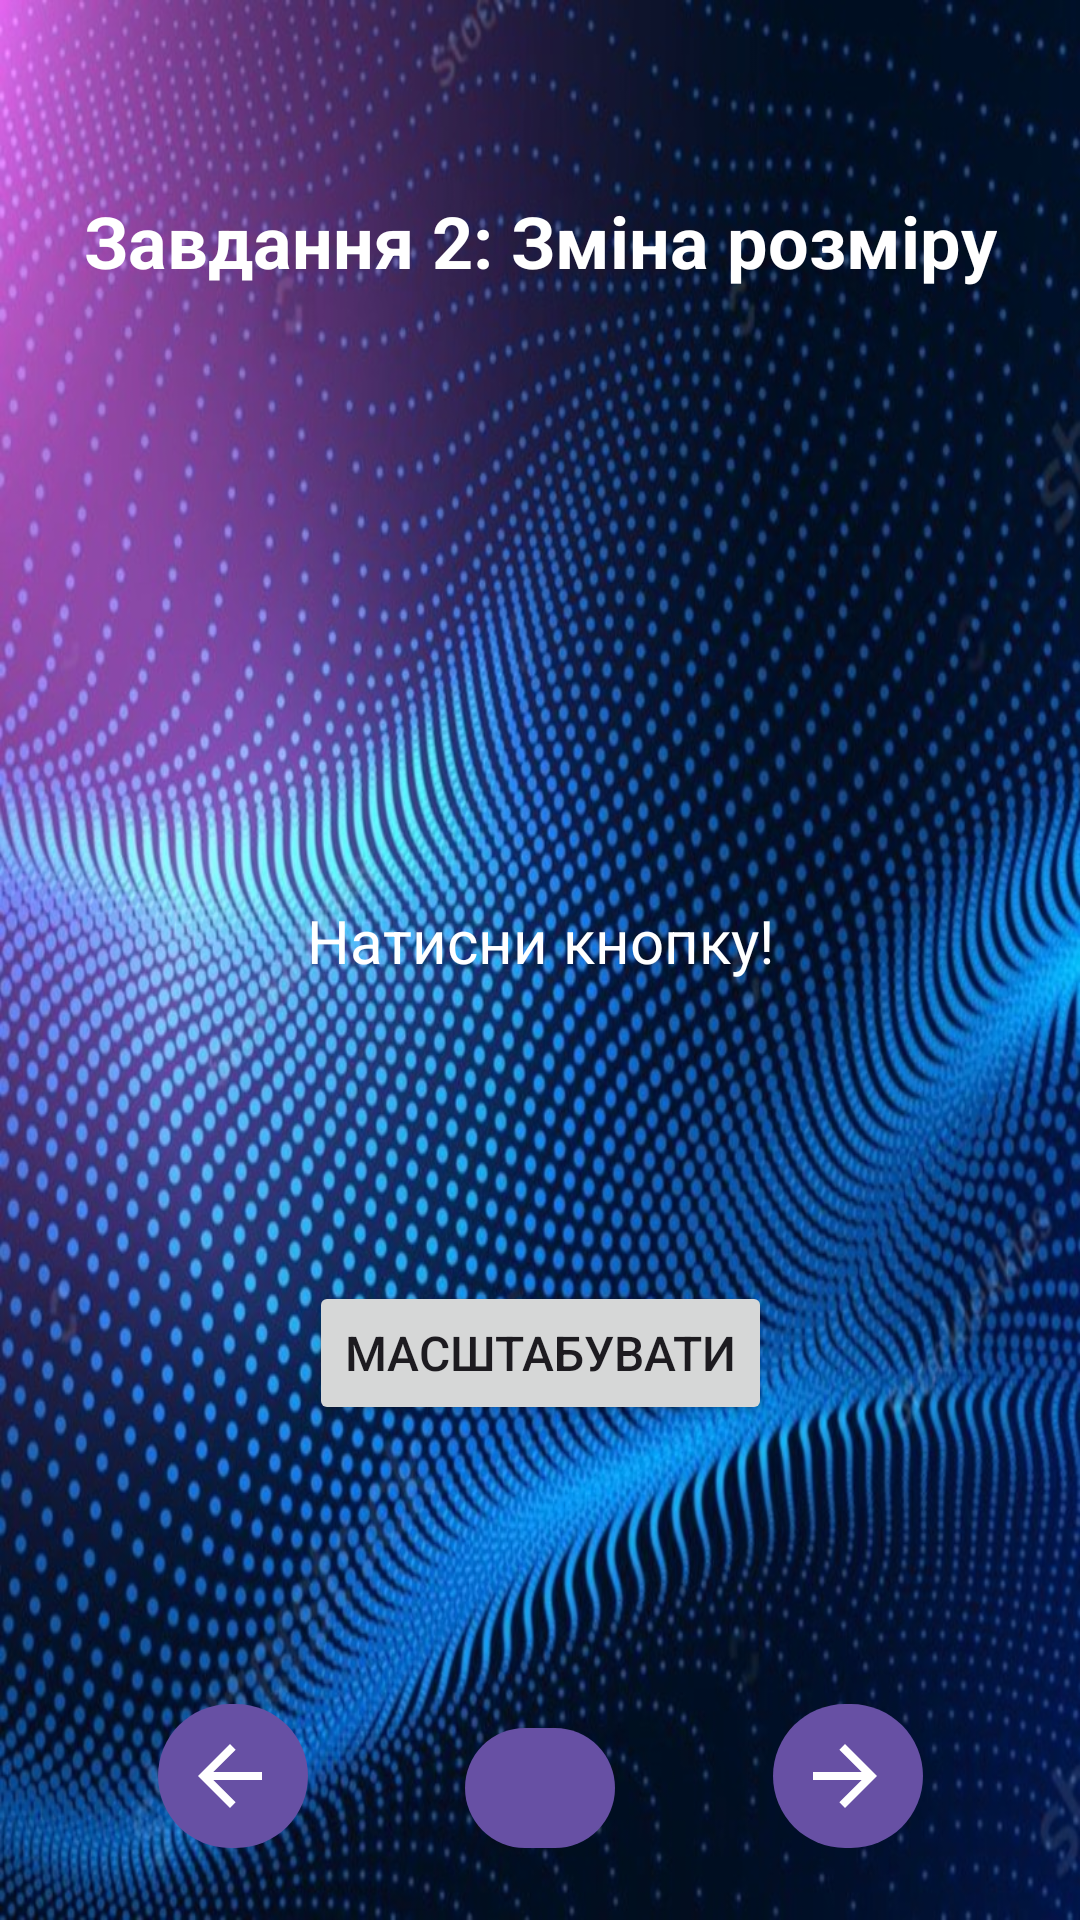

Icon click points for this 1080px×1920px phone screenshot, format (x=x, y=y):
Перейти вперед: (x=848, y=1776)
Повернутися назад: (x=233, y=1776)
